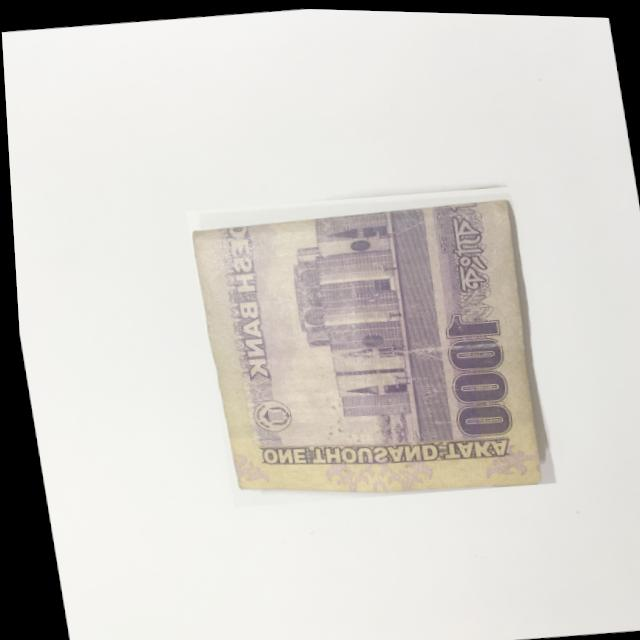Taka: (181, 175, 559, 513)
